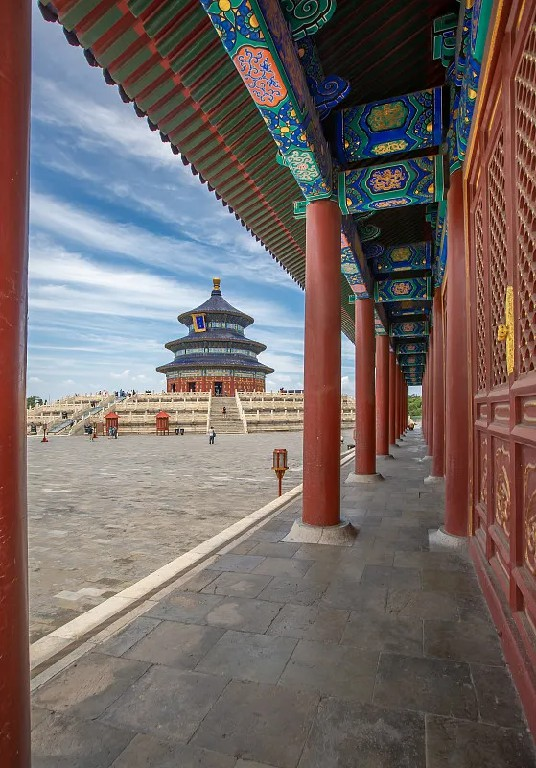Heaven: (155, 275, 274, 398)
